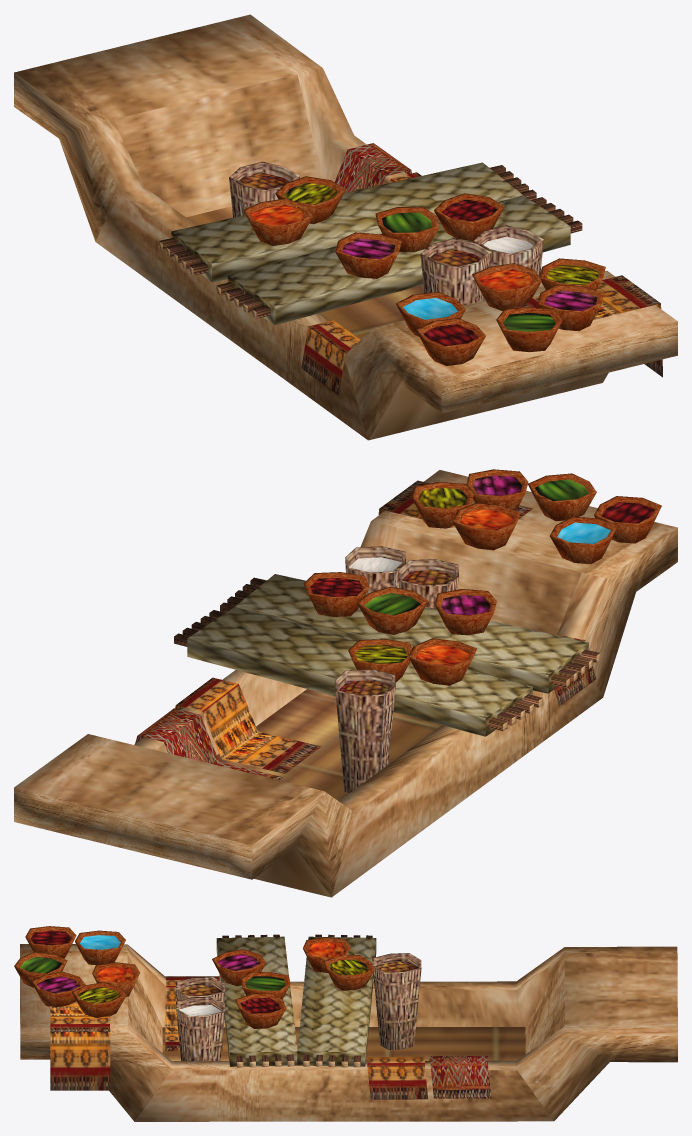
File: canoe_mer.dae
3 renders of one model, top to bottom at view 1: azimuth 30°, elevation 25°; view 2: azimuth 150°, elevation 25°; view 3: azimuth 270°, elevation 25°, orthographic. The views are drawn at different scales.
Visible parts, largest first — view 1: canoe_mer; view 2: canoe_mer; view 3: canoe_mer.
Boxes of the visible parts, x1,y1,x2,y2 form: canoe_mer: [14, 14, 677, 440]; canoe_mer: [14, 469, 677, 897]; canoe_mer: [14, 926, 677, 1121].
Bounding box in the file's own units: 6.16 × 13.55 × 2.44.
